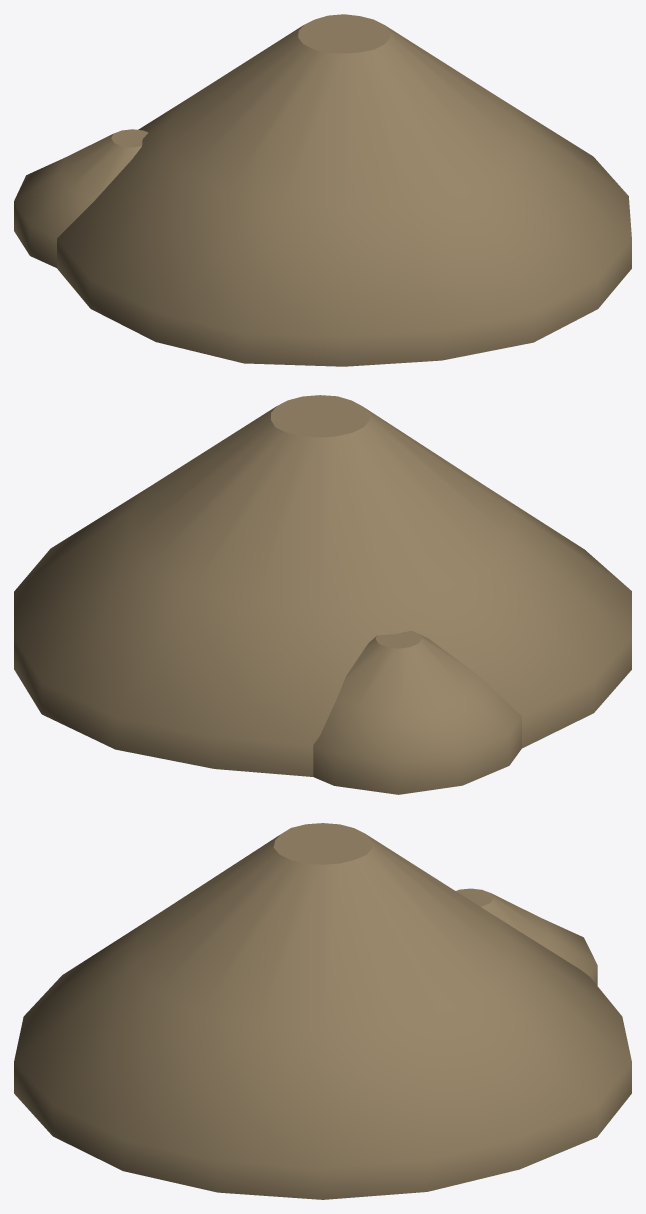
Rendered from site_stockpile3.fbx.
The picture shows the model from 3 angles, top to bottom: view 1: azimuth 30°, elevation 25°; view 2: azimuth 150°, elevation 25°; view 3: azimuth 270°, elevation 25°; orthographic projection. The views are drawn at different scales.
Visible parts, largest first — view 1: a1089/0/site_stockpile3; view 2: a1089/0/site_stockpile3; view 3: a1089/0/site_stockpile3.
Boxes of the visible parts, box(x1,y1,x2,y2) form: a1089/0/site_stockpile3: box(14, 14, 631, 366); a1089/0/site_stockpile3: box(14, 395, 631, 794); a1089/0/site_stockpile3: box(14, 823, 631, 1199).
Size of the model in its own units: 9.2 by 3.72 by 9.2.
